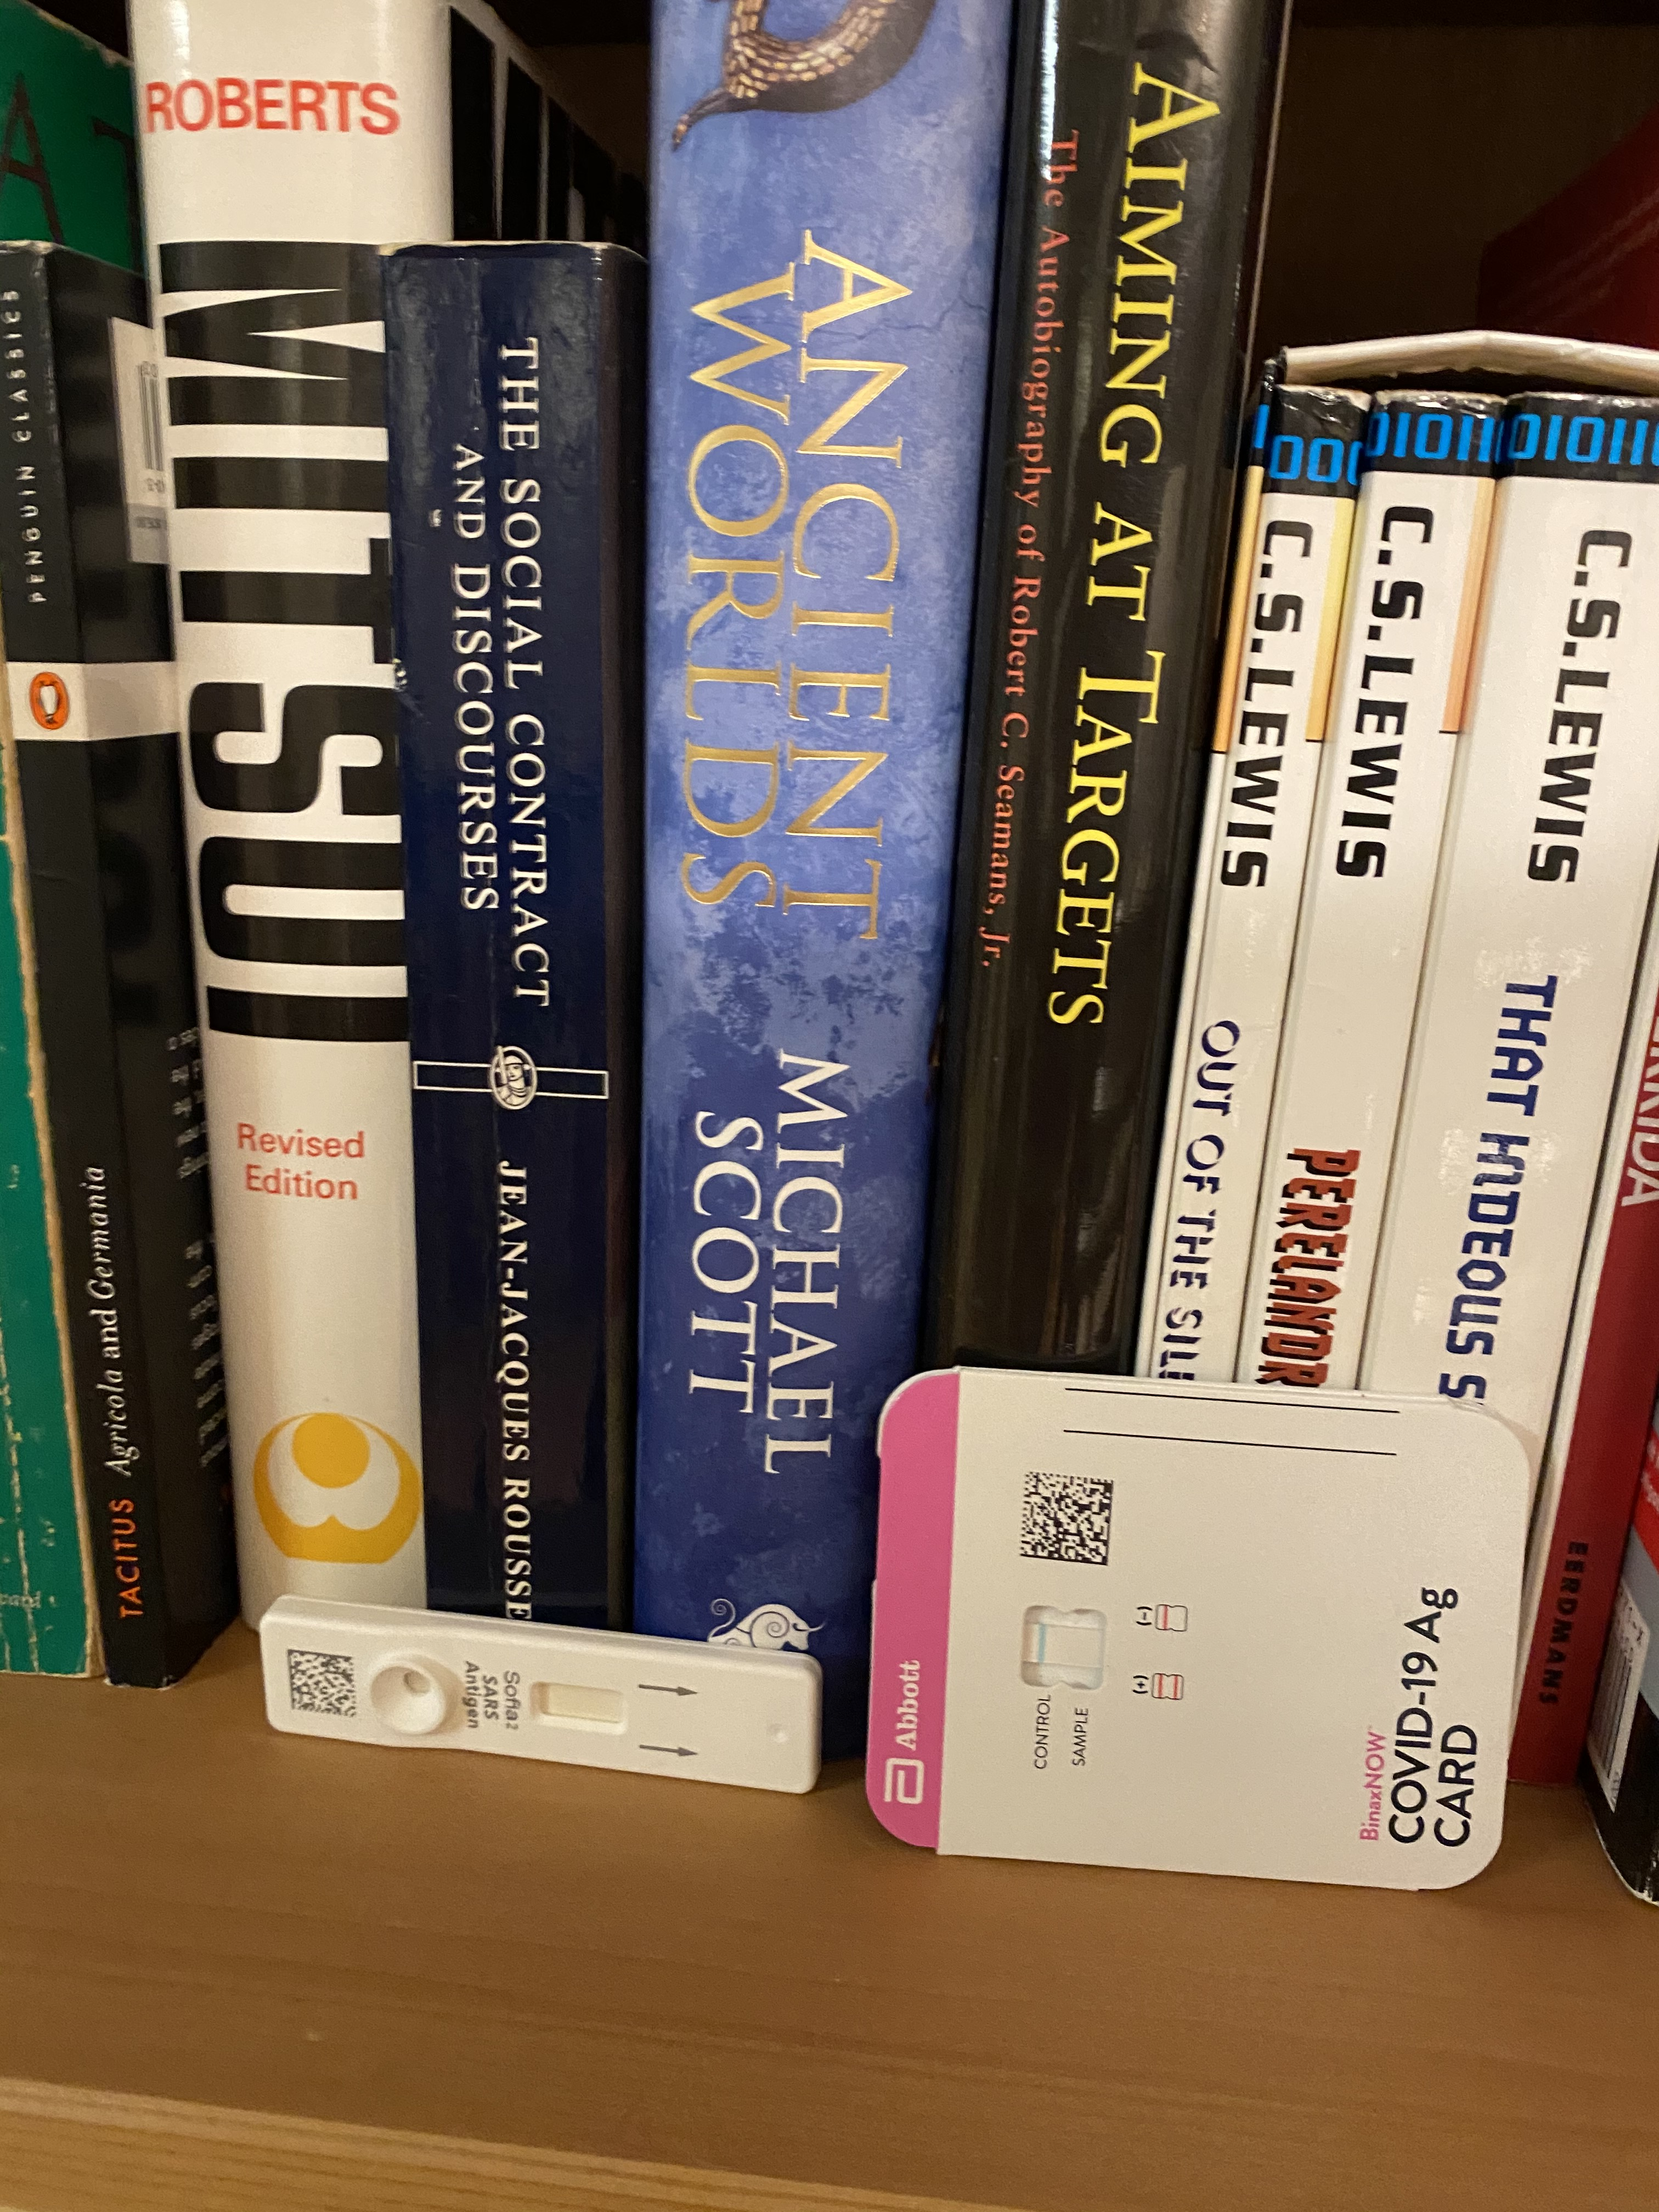binax: (859, 1350, 1541, 1898)
quidel: (254, 1583, 836, 1803)
